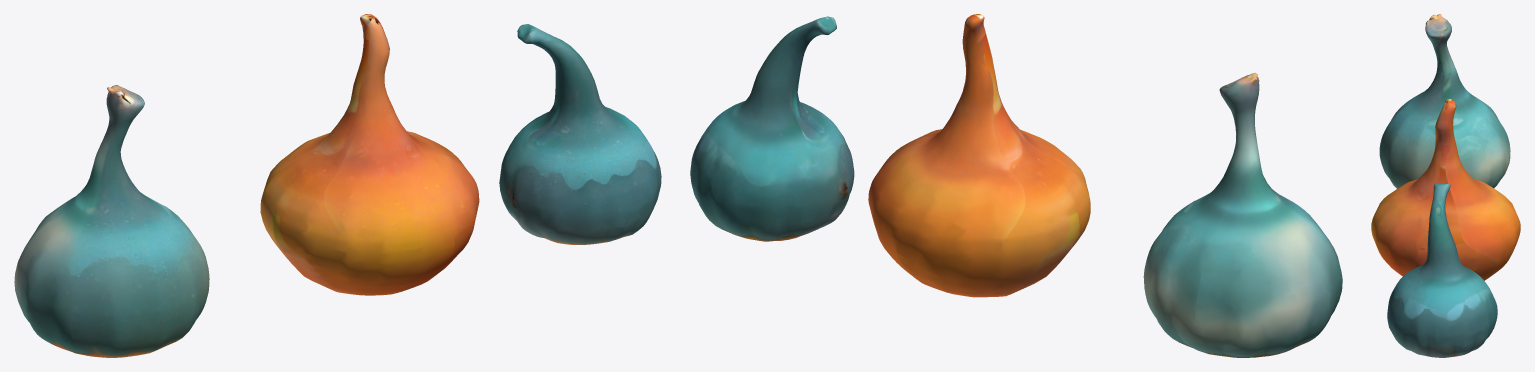
File: mum_damlaları__0522232335_texture.glb
3 renders of one model, left to right at view 1: azimuth 30°, elevation 25°; view 2: azimuth 150°, elevation 25°; view 3: azimuth 270°, elevation 25°, orthographic. The views are drawn at different scales.
Size of the model in its own units: 2 by 0.8085 by 0.6158.
1 material, 1 textured.
